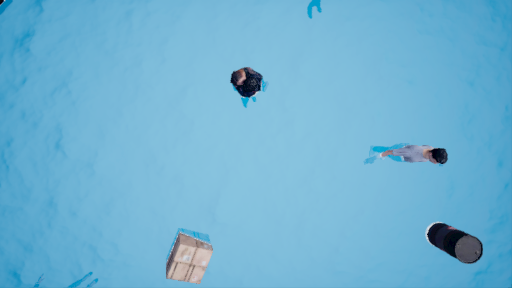person: (361, 133, 453, 177), (222, 60, 276, 109)
